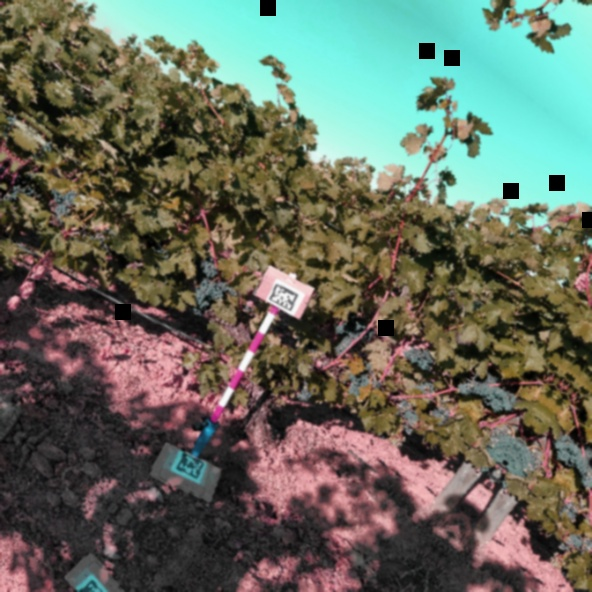QR: (265, 280, 303, 316), (172, 448, 209, 484)
